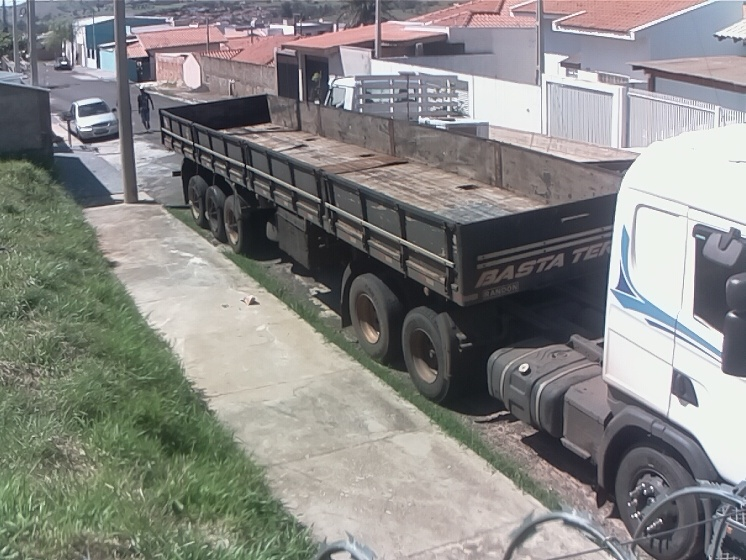person: (132, 83, 164, 134)
